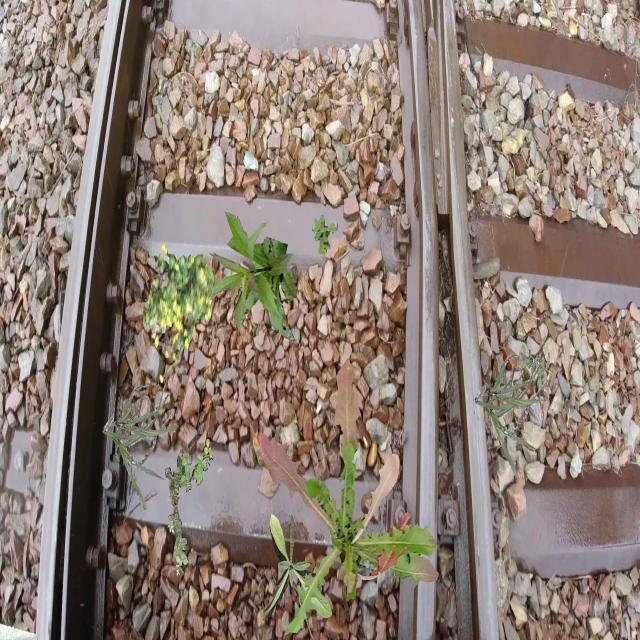Plant: (259, 358, 439, 636), (209, 212, 298, 342), (144, 244, 219, 384), (475, 355, 548, 480), (103, 385, 176, 510), (261, 513, 332, 621), (165, 439, 214, 577), (526, 350, 554, 391), (312, 215, 336, 256)
